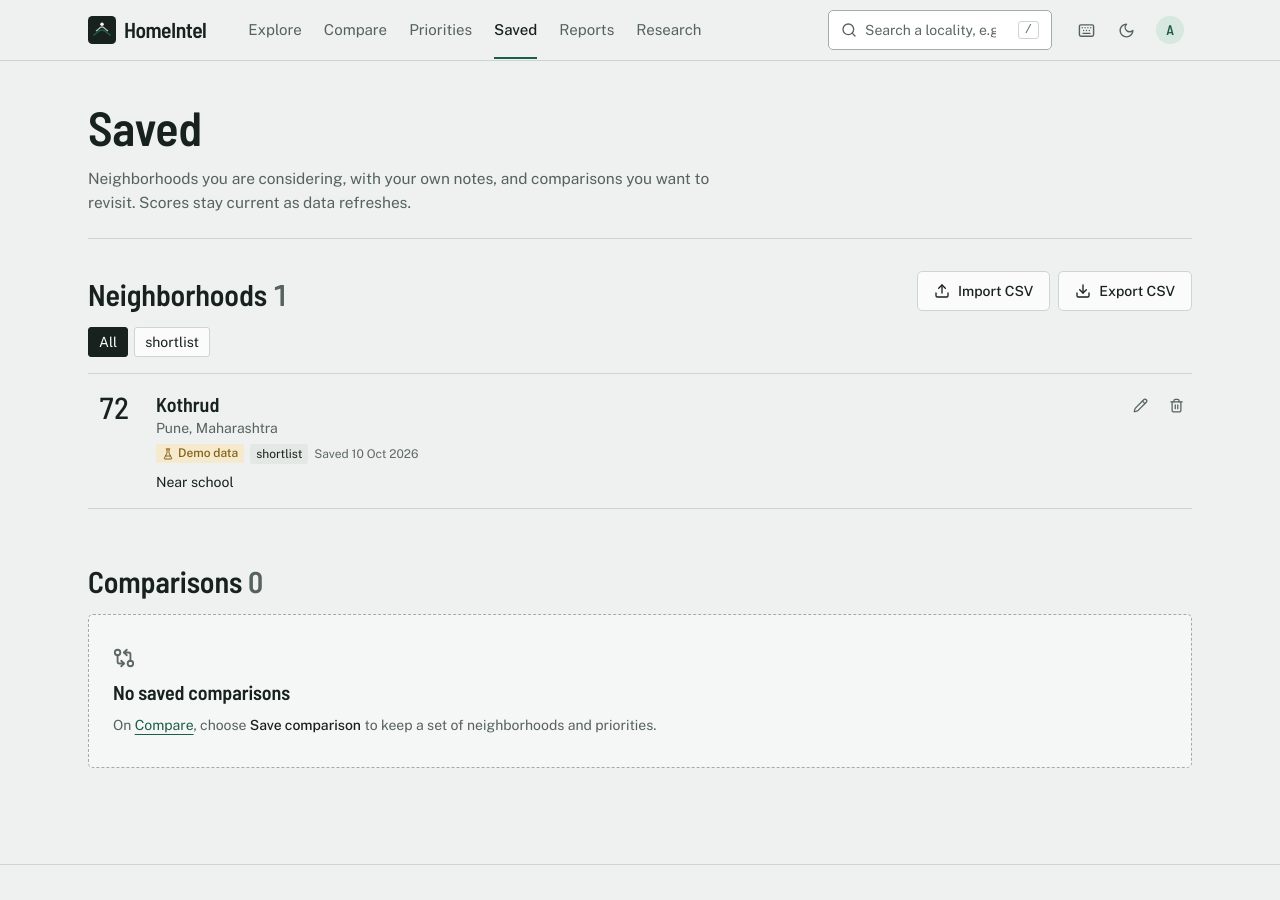
Scenario: Signed-in pages › Saved lists items with notes and supports removal
This screenshot has width=1280, height=900.
Check: the text "Near school" is shown, box x1=156 y1=474 x2=234 y2=490
Click the button named "remove kothrud from saved". click: [1176, 406]
box: x1=1160 y1=390 x2=1192 y2=422
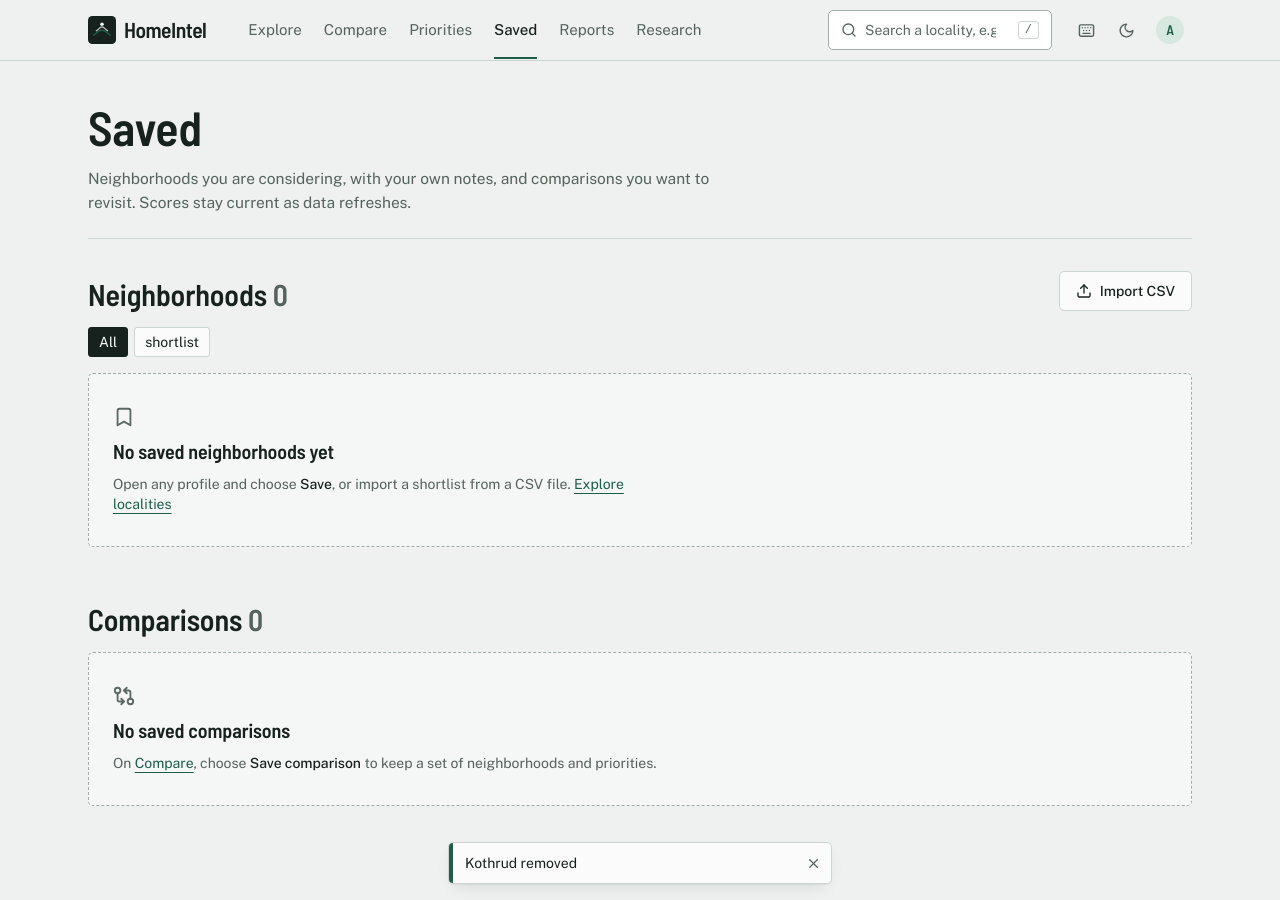
Check: the heading "No saved comparisons" is shown, box x1=113 y1=719 x2=290 y2=741
Check: the text "Near school" is gone
